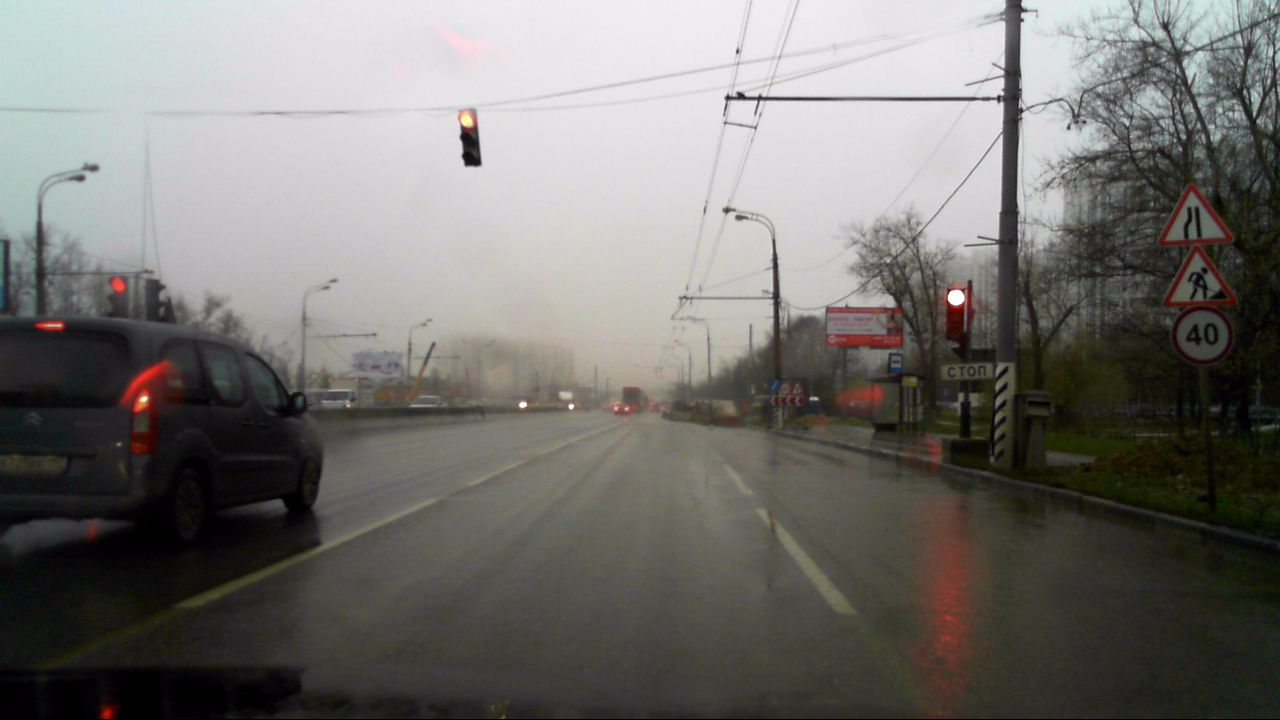speed_warning_40: (1172, 307, 1232, 363)
